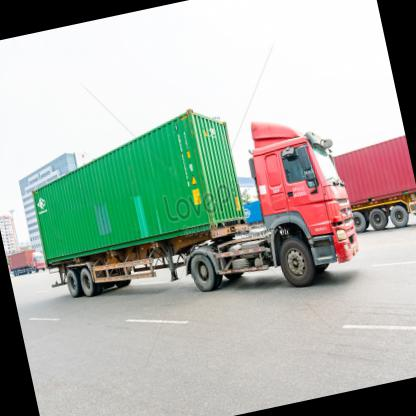truck: (245, 116, 370, 296)
